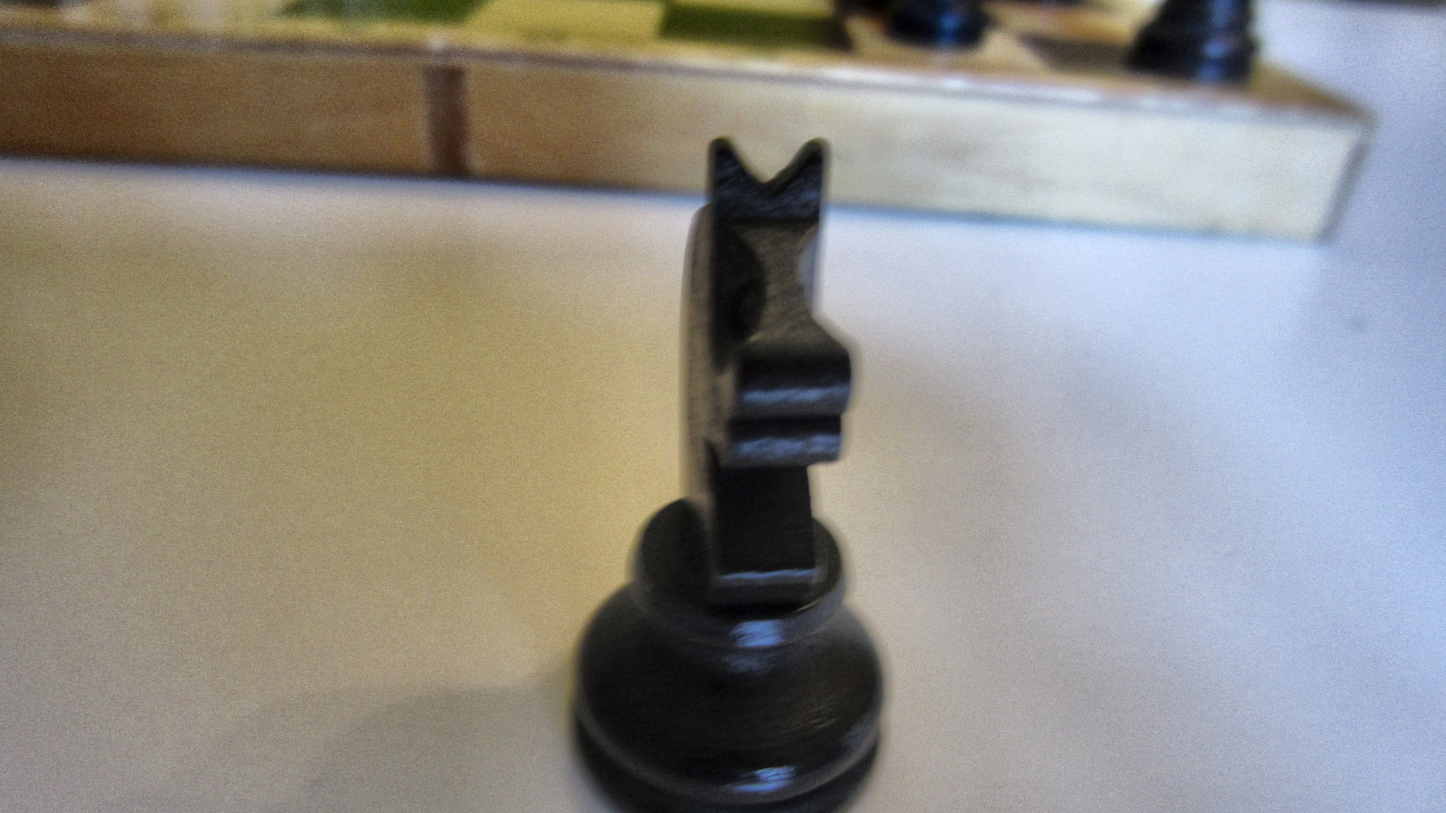black-knight: (558, 127, 889, 813)
